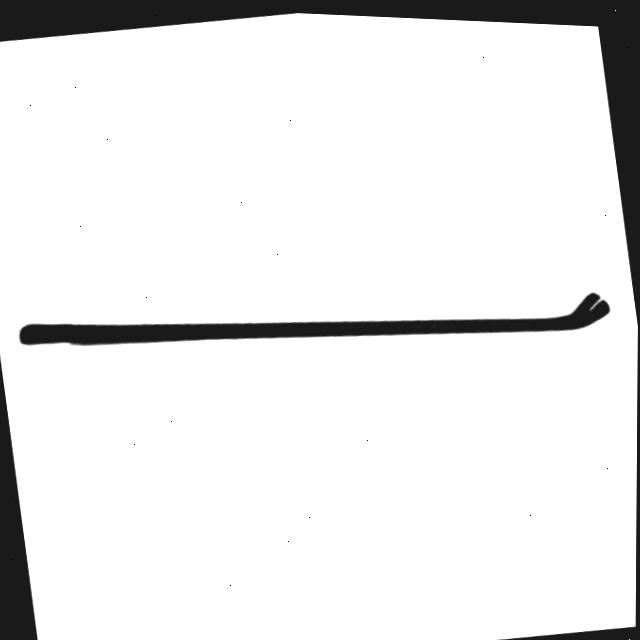crow bar: (13, 283, 612, 352)
